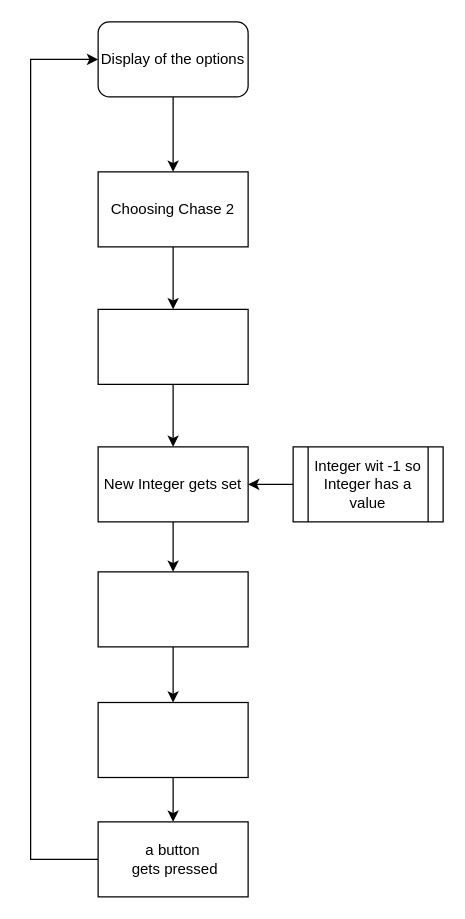
This 465x919 diagram has some shape labels left out. The centre of each missing label's shape, as x and y in pixels:
Console needs a input to circle back: (172,739)
Display of the integer over Console.Writeline: (172,609)
Looking in Library Data: (172,346)
